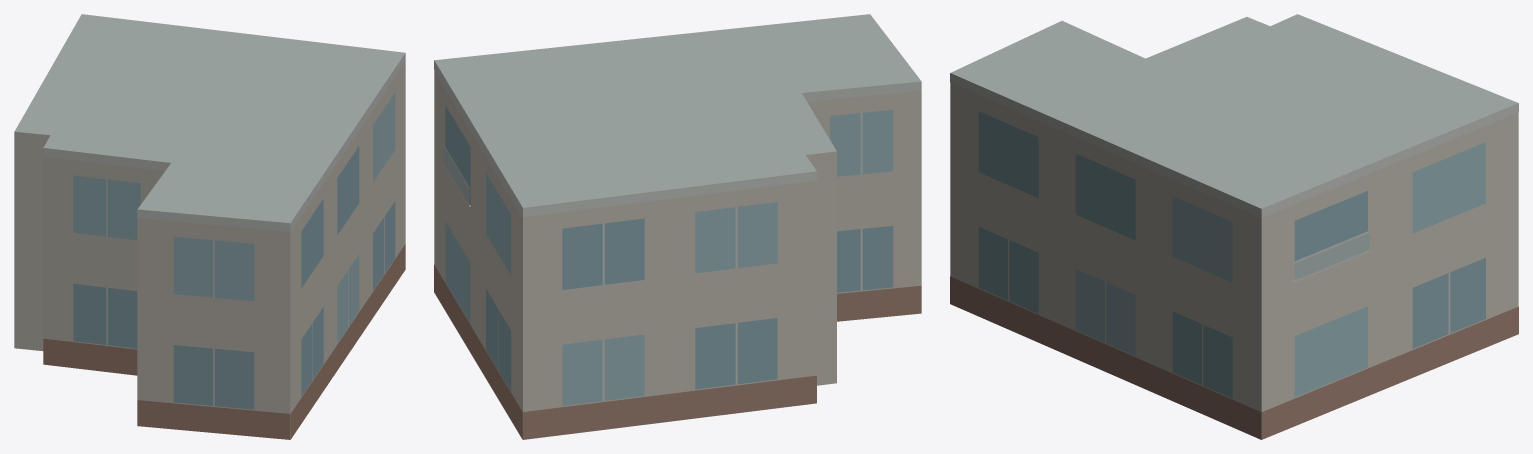
File: survey-upis-32756919.glb
The picture shows the model from 3 angles, left to right: view 1: azimuth 30°, elevation 25°; view 2: azimuth 150°, elevation 25°; view 3: azimuth 270°, elevation 25°; orthographic projection. The views are drawn at different scales.
Parts seen in each view (by area): view 1: survey-upis-32756919.tmp; view 2: survey-upis-32756919.tmp; view 3: survey-upis-32756919.tmp.
Part boxes in pixels (<box>): survey-upis-32756919.tmp: <box>14,14,405,439</box>; survey-upis-32756919.tmp: <box>434,14,921,439</box>; survey-upis-32756919.tmp: <box>950,14,1518,439</box>.
Bounding box in the file's own units: 11.04 × 6.1 × 13.61.
